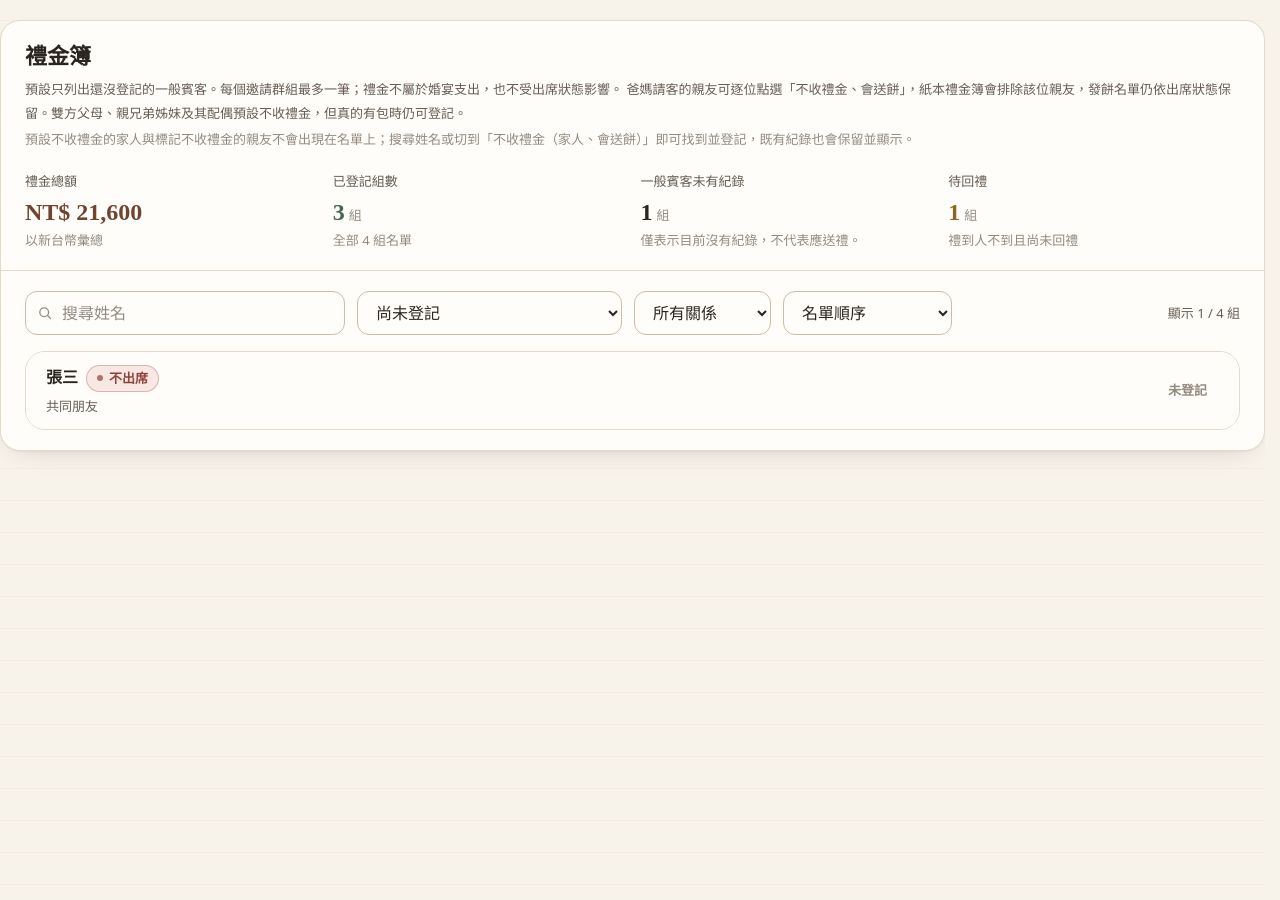
Test case: WeddingGiftBook › gives a viewer no return-gift controls
The image size is (1280, 900).
Select "全部（不含不收禮金）" in the dropdown named "禮金登記狀態篩選": coordinates (490, 314) [357, 292, 622, 336]
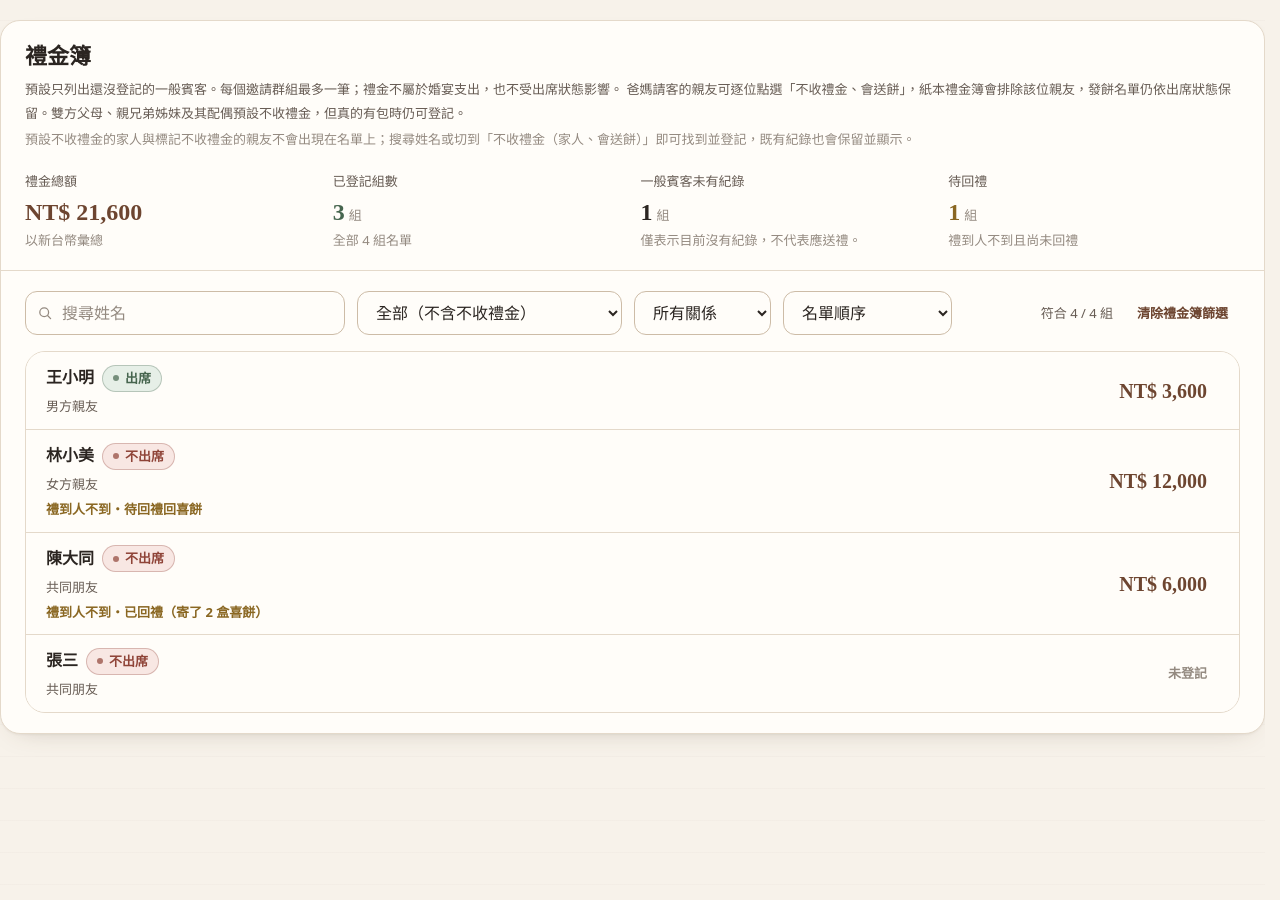
Now the text "禮到人不到・待回禮回喜餅" is shown, box [46, 500, 202, 518]
